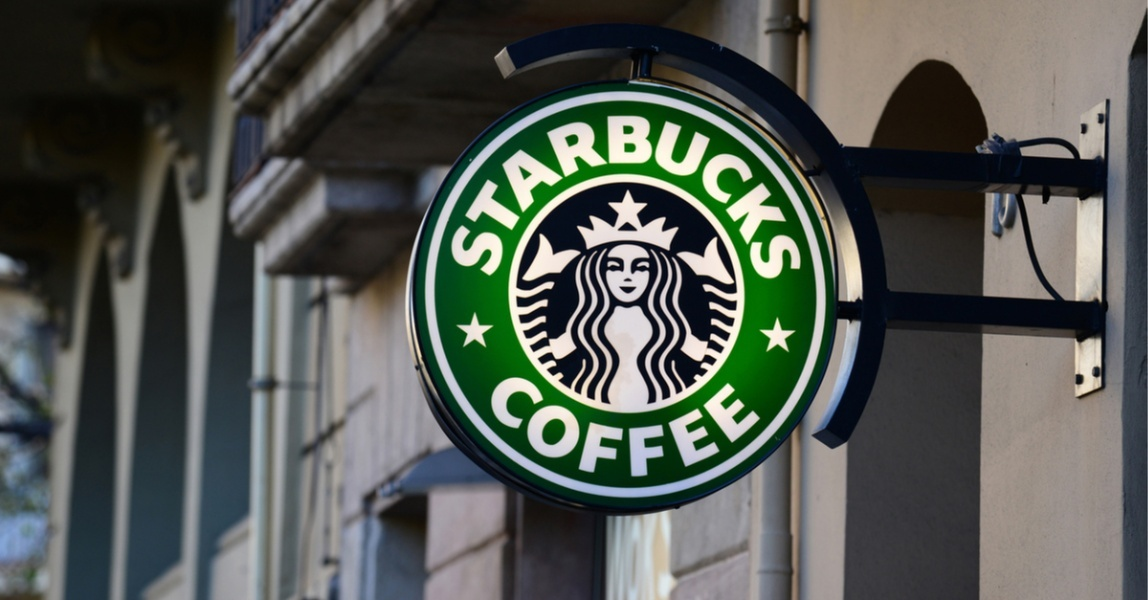text: (465, 113, 480, 283), (481, 113, 496, 283), (497, 113, 512, 283), (513, 113, 528, 283), (529, 113, 544, 283), (545, 113, 560, 283), (561, 113, 576, 283), (577, 113, 592, 283), (593, 113, 608, 283), (609, 113, 624, 283), (625, 113, 640, 283), (641, 113, 656, 283), (657, 113, 672, 283), (673, 113, 688, 283), (689, 113, 704, 283), (705, 113, 720, 283), (721, 113, 736, 283), (737, 113, 752, 283), (753, 113, 768, 283), (769, 113, 784, 283), (785, 113, 800, 283), (497, 376, 512, 480), (513, 376, 528, 480), (529, 376, 544, 480), (545, 376, 560, 480), (561, 376, 576, 480), (577, 376, 592, 480), (593, 376, 608, 480), (609, 376, 624, 480), (625, 376, 640, 480), (641, 376, 656, 480), (657, 376, 672, 480), (673, 376, 688, 480), (689, 376, 704, 480), (705, 376, 720, 480), (721, 376, 736, 480), (737, 376, 752, 480), (753, 376, 768, 480), (484, 376, 496, 480), (458, 113, 464, 283), (801, 113, 805, 283), (769, 376, 775, 480)
